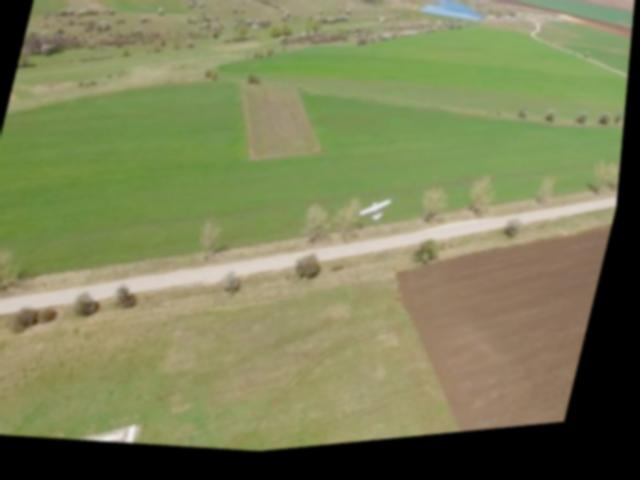uav: (354, 194, 404, 244)
